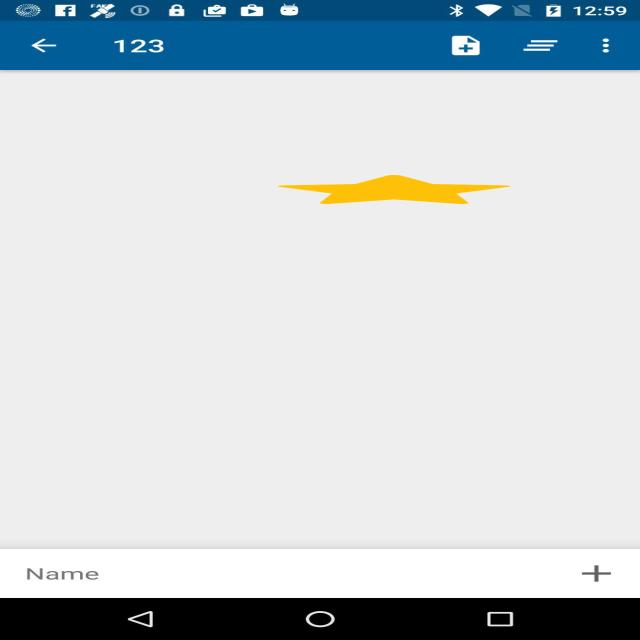forced continuity: (278, 175, 510, 204)
